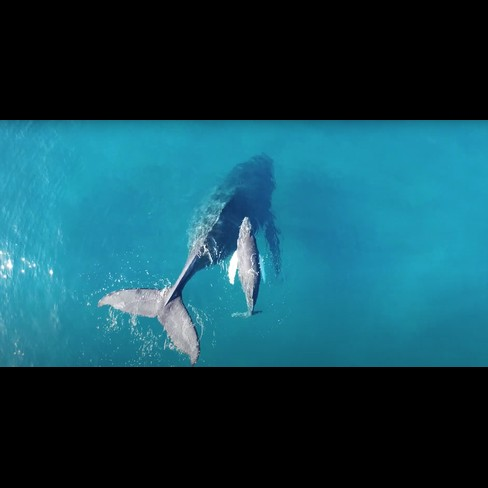hump: (93, 145, 286, 366), (223, 210, 267, 323)
